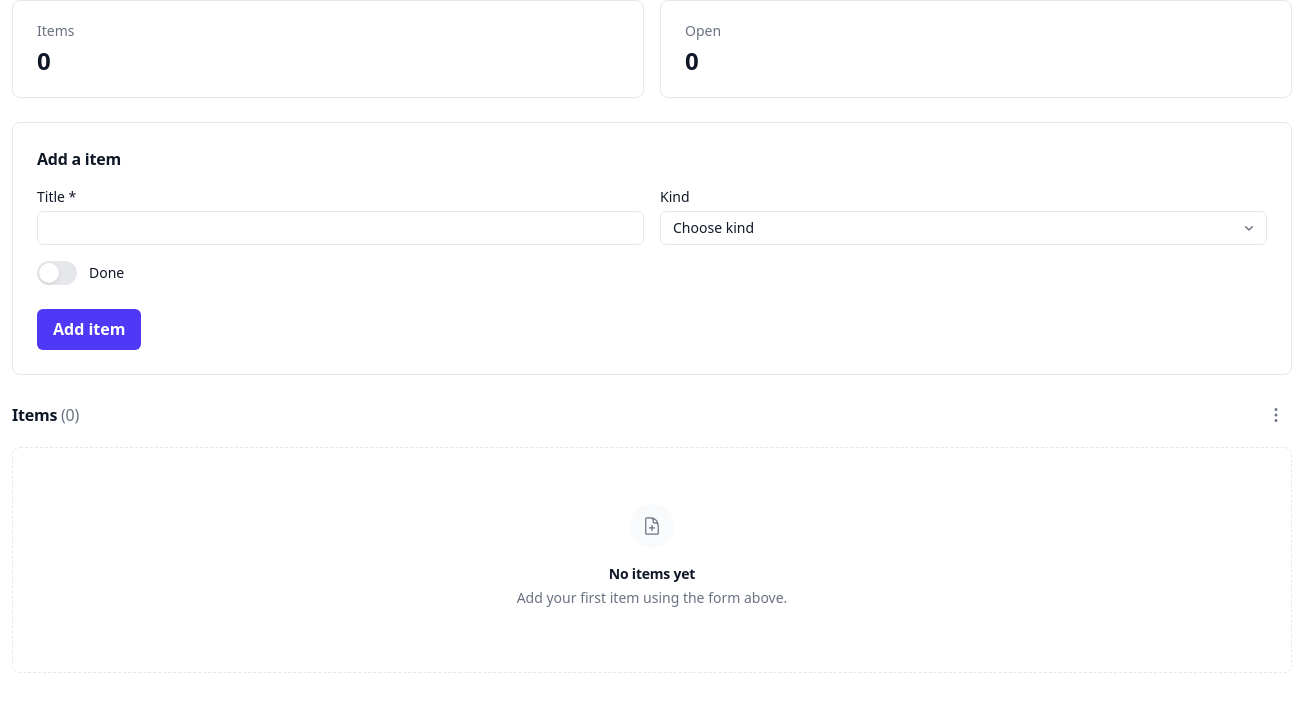
Test case: collection view › edits an existing record
Type "Before" into the field labelled "Title *" at (340, 228), box [37,211,644,245]
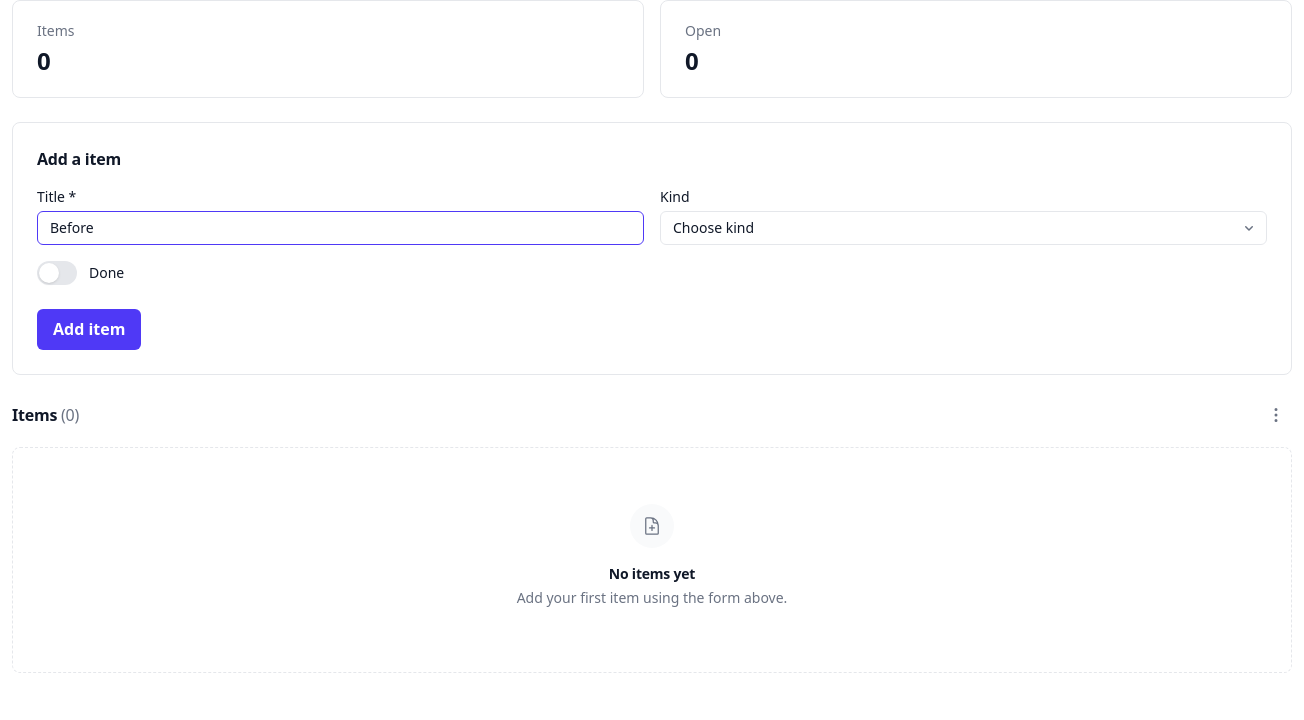
Click the button "Add item" at (89, 329), box [37,309,142,350]
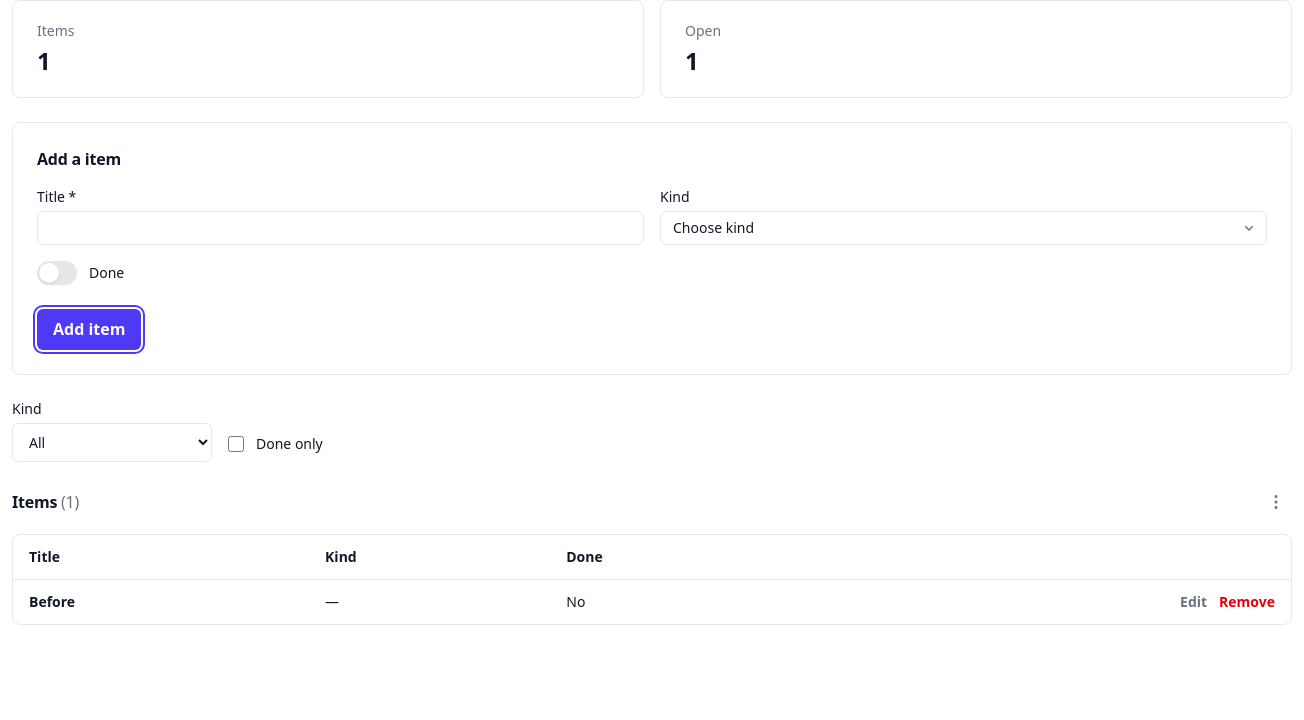
Click the button with aria-label "Edit Before" at (1194, 602), box [1180,592,1207,612]
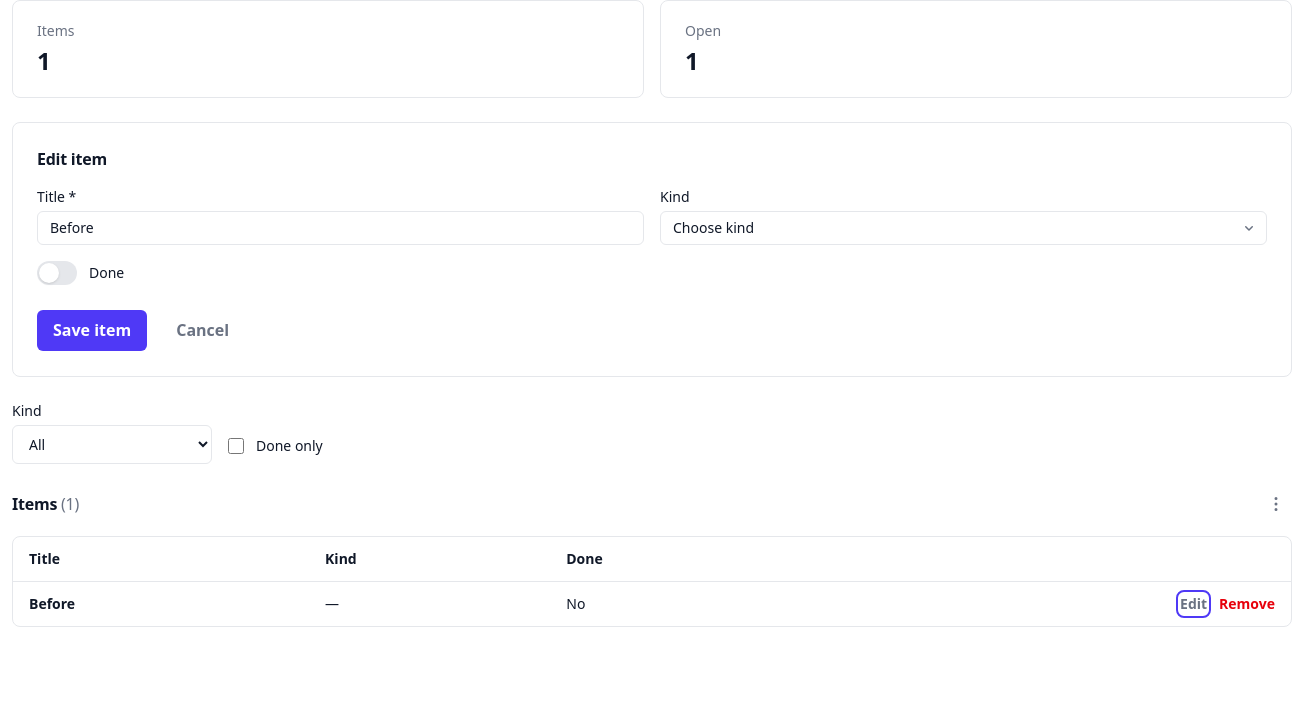
Replace the text in the field labelled "Title *" with "After" at (340, 228), box [37,211,644,245]
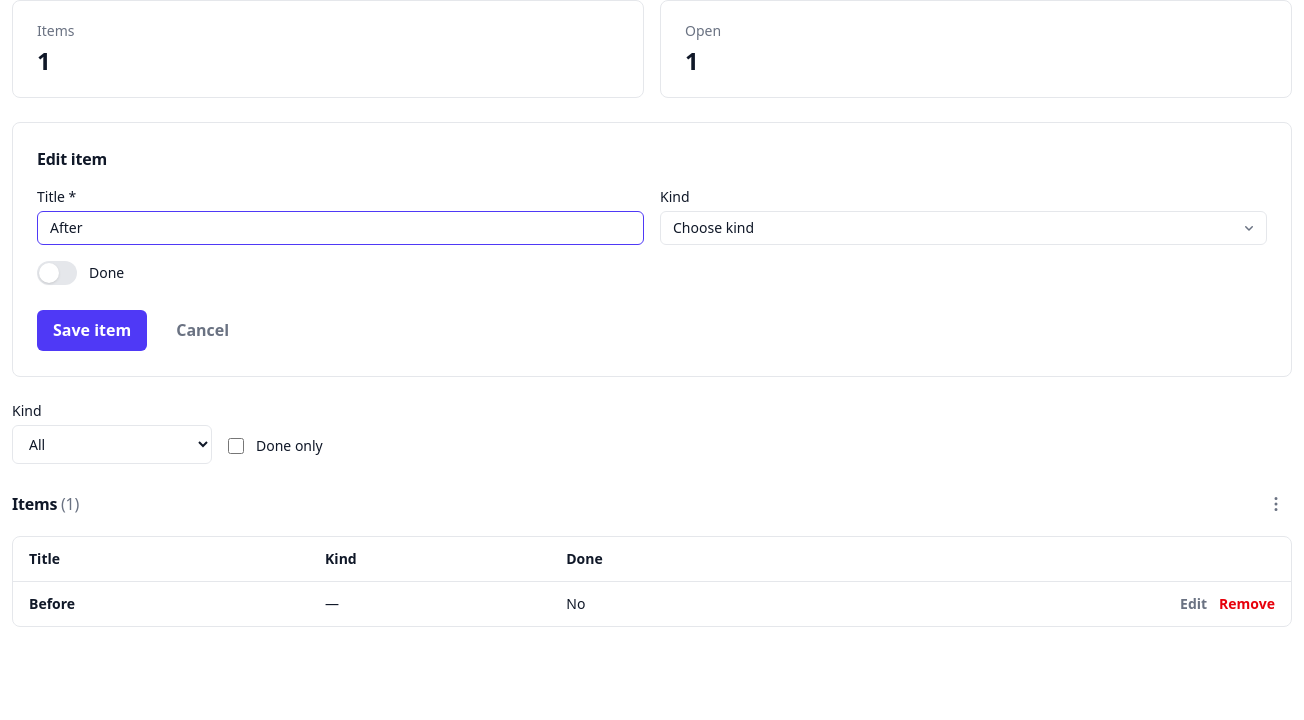
Click the button "Save item" at (92, 330), box [37,310,147,351]
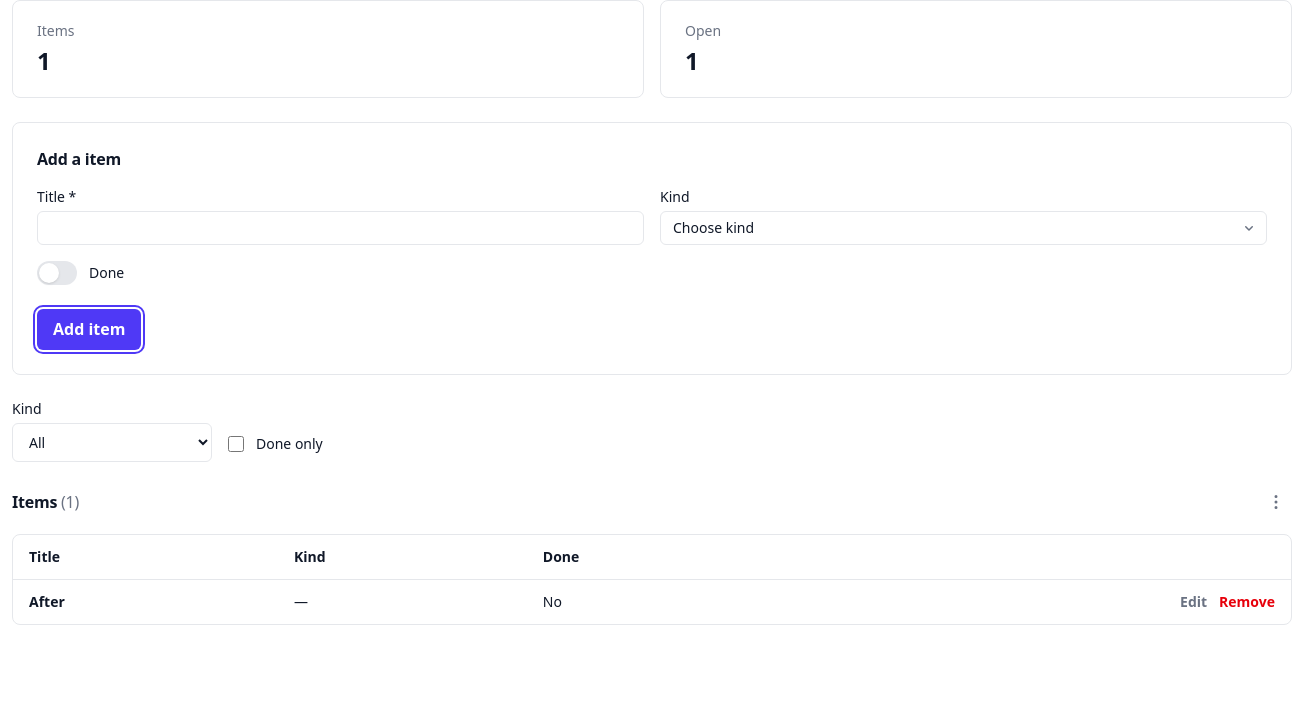
Check: the text "After" is shown, box [29,592,65,611]
Check: the text "Before" is gone
